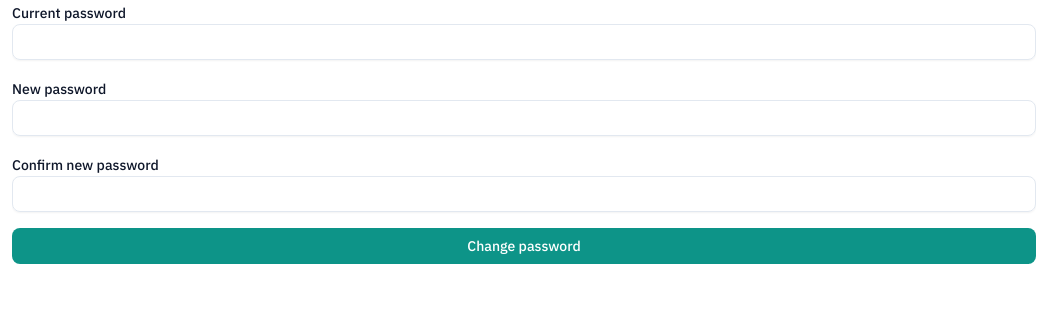
Test: ChangePasswordForm › confirms success in place
Type "old-password" into the password field labelled "Current password" at (524, 42), box [12,24,1036,60]
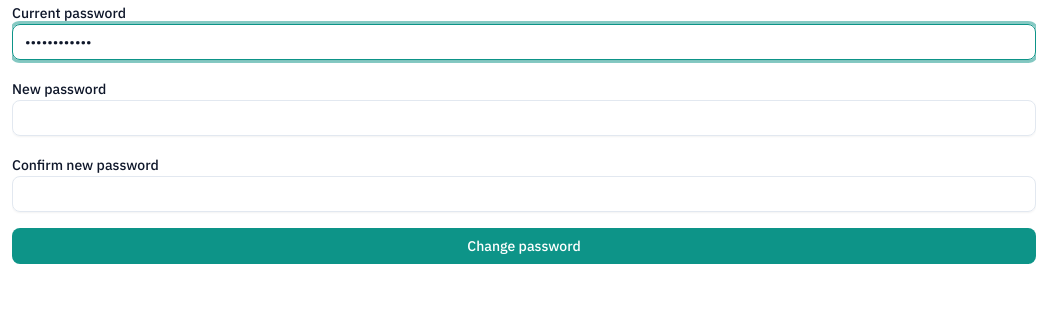
Type "brand-new-password" into the password field labelled "New password" at (524, 118), box [12,100,1036,136]
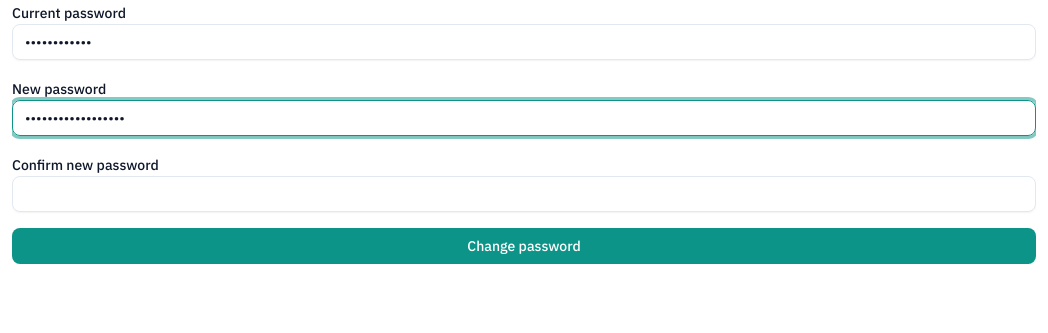
Type "brand-new-password" into the password field labelled "Confirm new password" at (524, 194), box [12,176,1036,212]
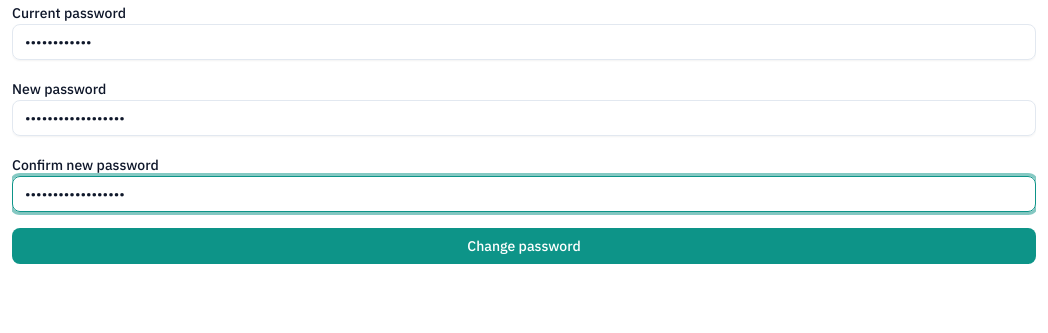
Click the button "Change password" at (524, 246), box [12,228,1036,264]
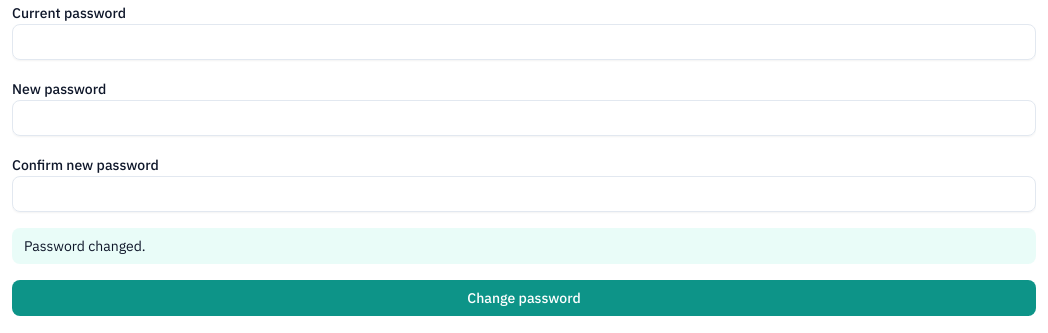
Expected: the message shows "Password changed", [24,237,146,255]
